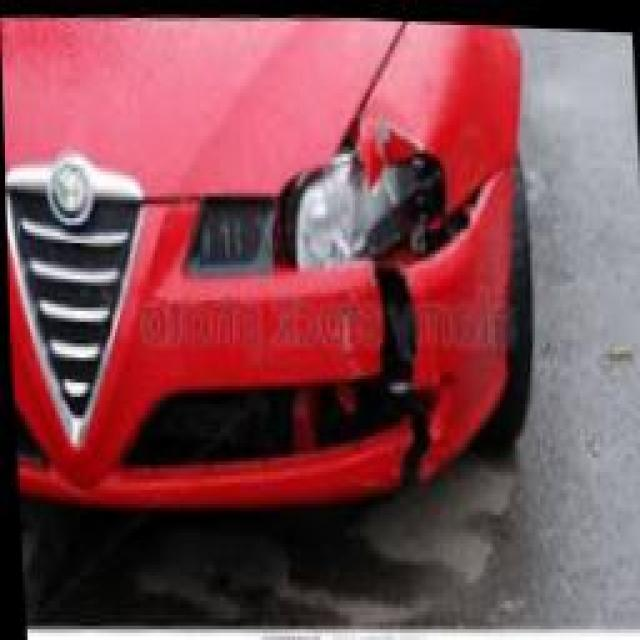Bumper: (342, 229, 503, 468)
Light: (290, 132, 441, 285)
